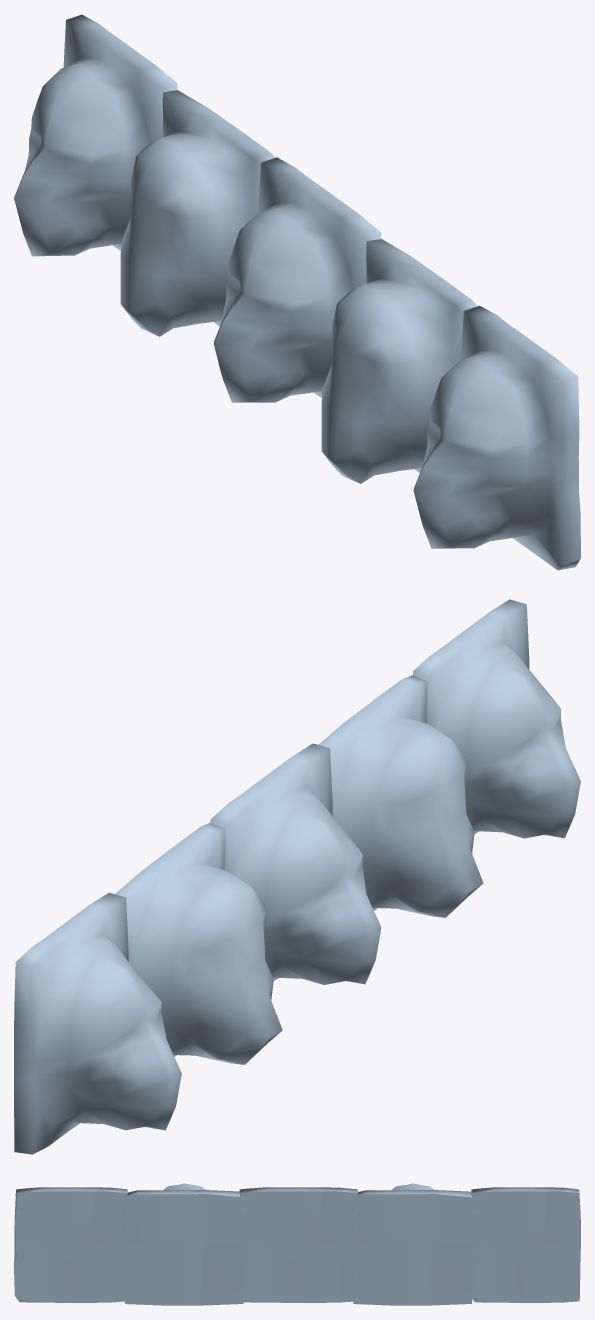
Rendered from Statues_Lign_01B_Lod0.fbx.
3 views of the same model, one above another, from view 1: azimuth 30°, elevation 25°; view 2: azimuth 150°, elevation 25°; view 3: azimuth 270°, elevation 25° (orthographic). The views are drawn at different scales.
Visible parts, largest first — view 1: Statues_Lign_01B_Lod0; view 2: Statues_Lign_01B_Lod0; view 3: Statues_Lign_01B_Lod0.
Part boxes in pixels (x1=…): Statues_Lign_01B_Lod0: x1=14, y1=14, x2=580, y2=570; Statues_Lign_01B_Lod0: x1=14, y1=599, x2=580, y2=1154; Statues_Lign_01B_Lod0: x1=14, y1=1183, x2=580, y2=1305.
Size of the model in its own units: 41.71 by 66.65 by 301.
